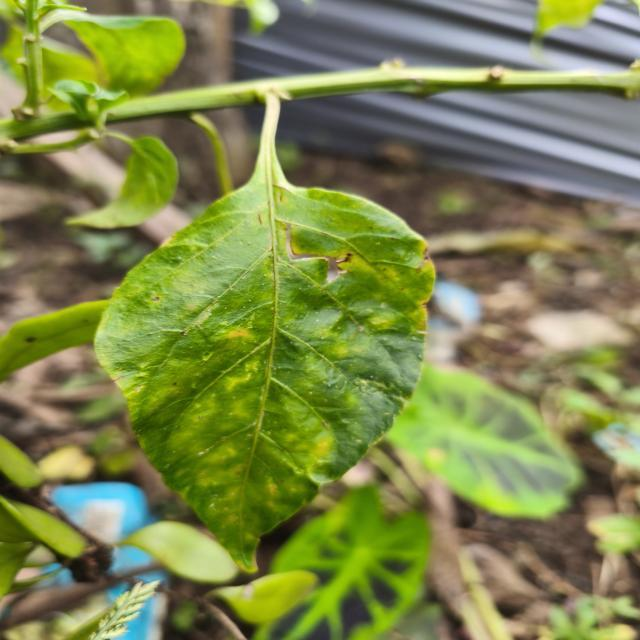Virus Kuning: (91, 170, 437, 574)
